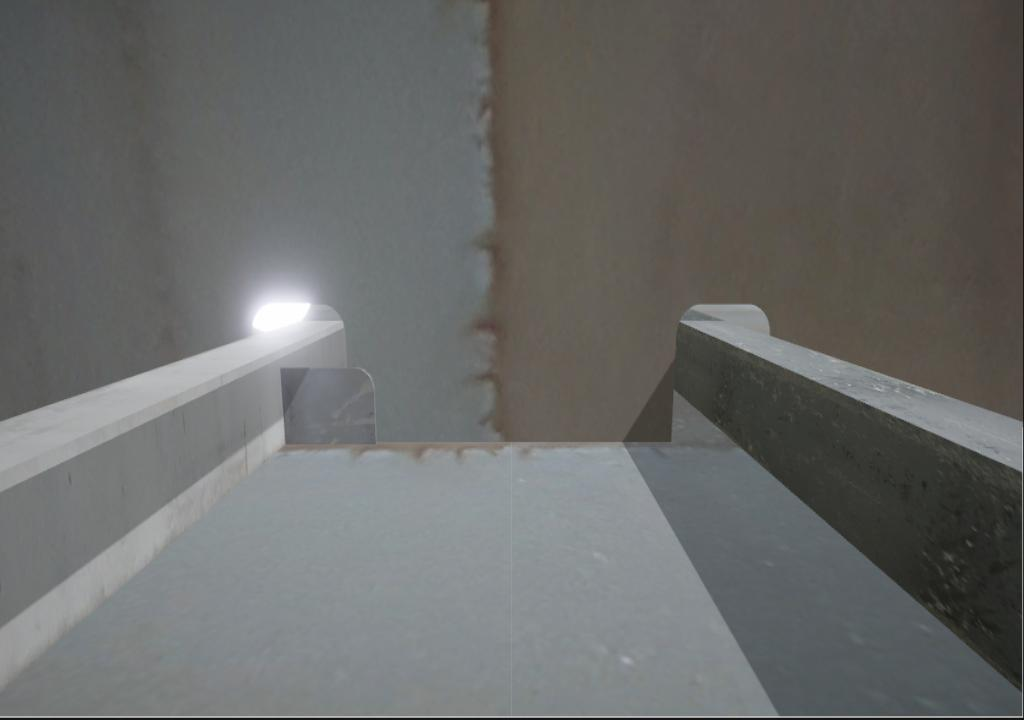fillet_yong_jeop_jang: (372, 432, 676, 449)
plate_CP05: (279, 365, 376, 445)
